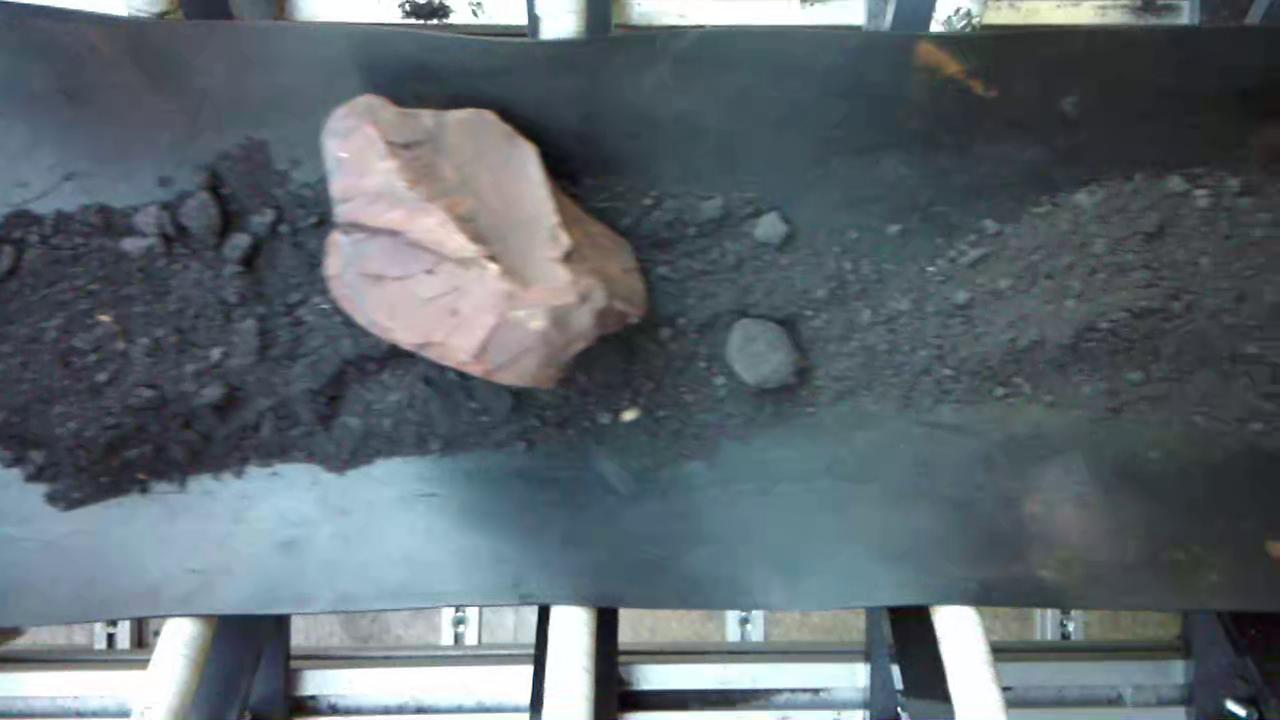conveyor: (0, 29, 1280, 592)
